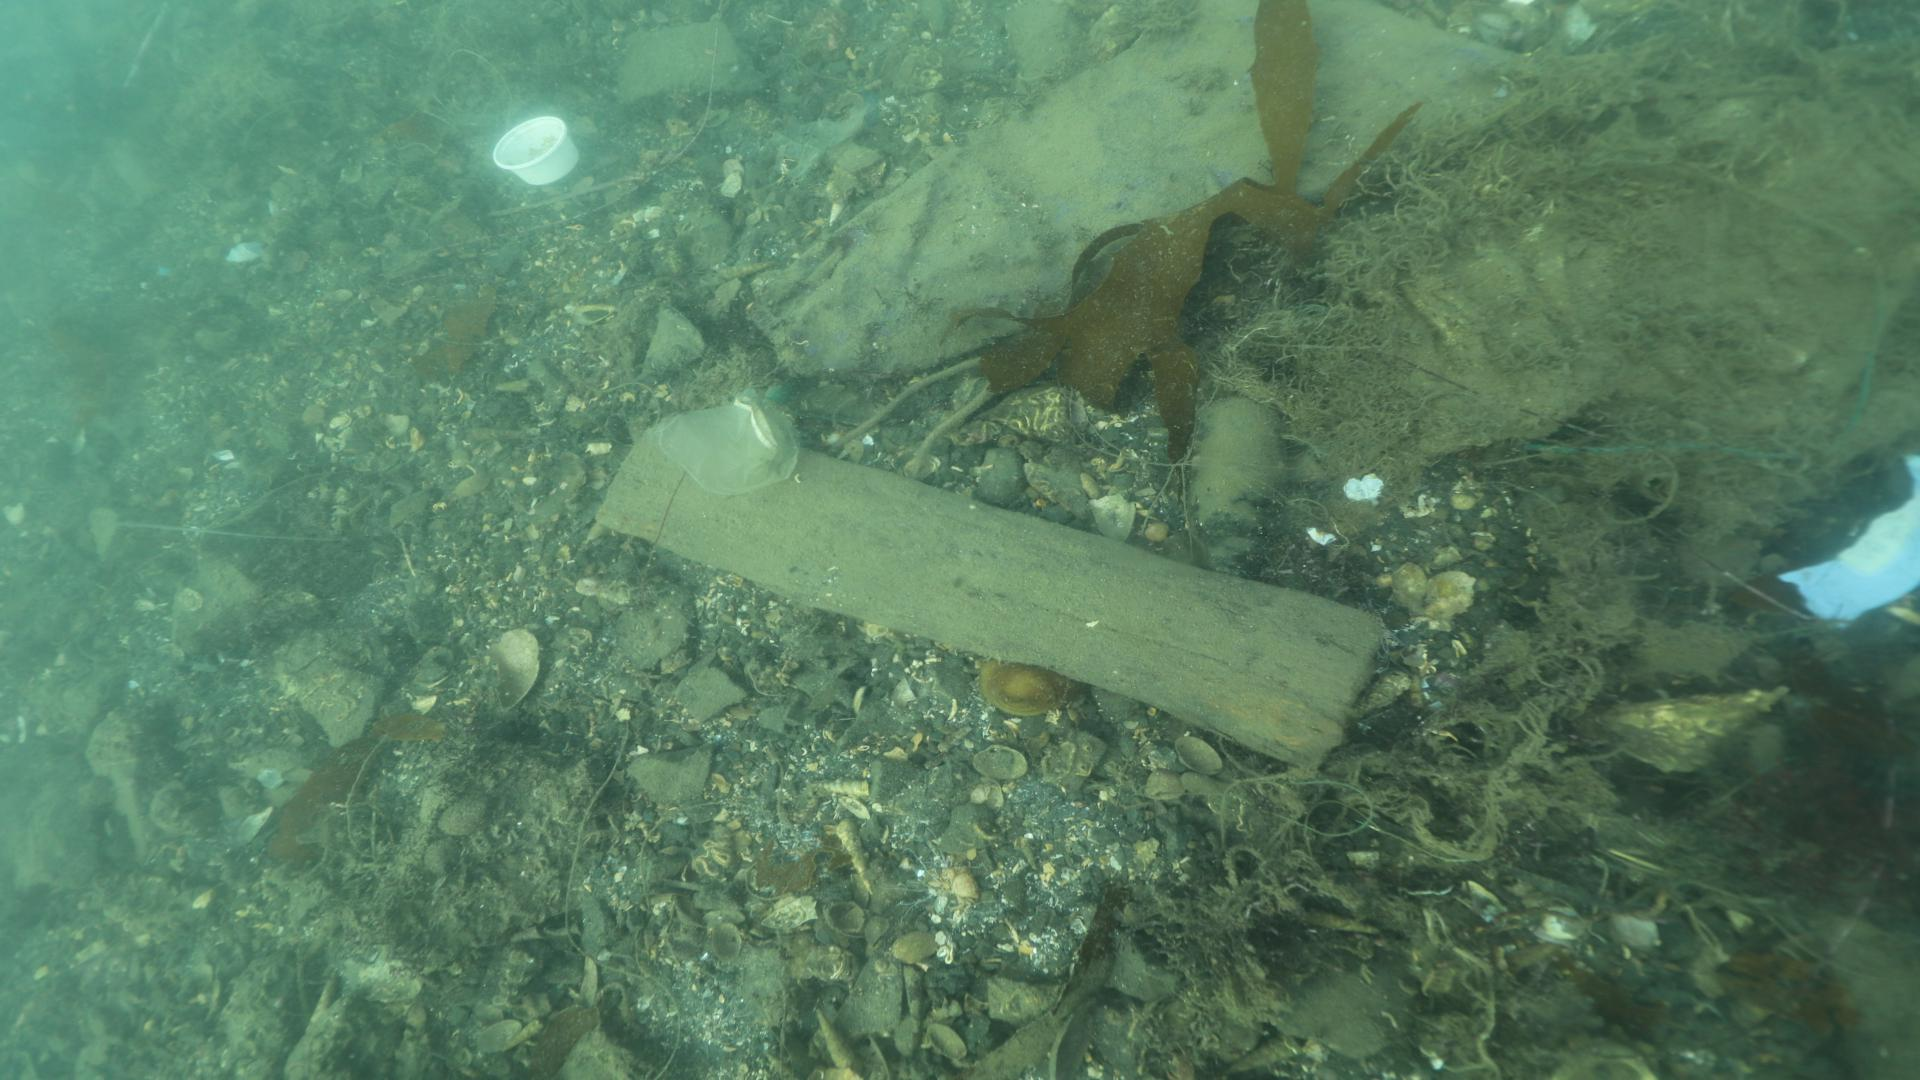wood: (591, 409, 1390, 775)
